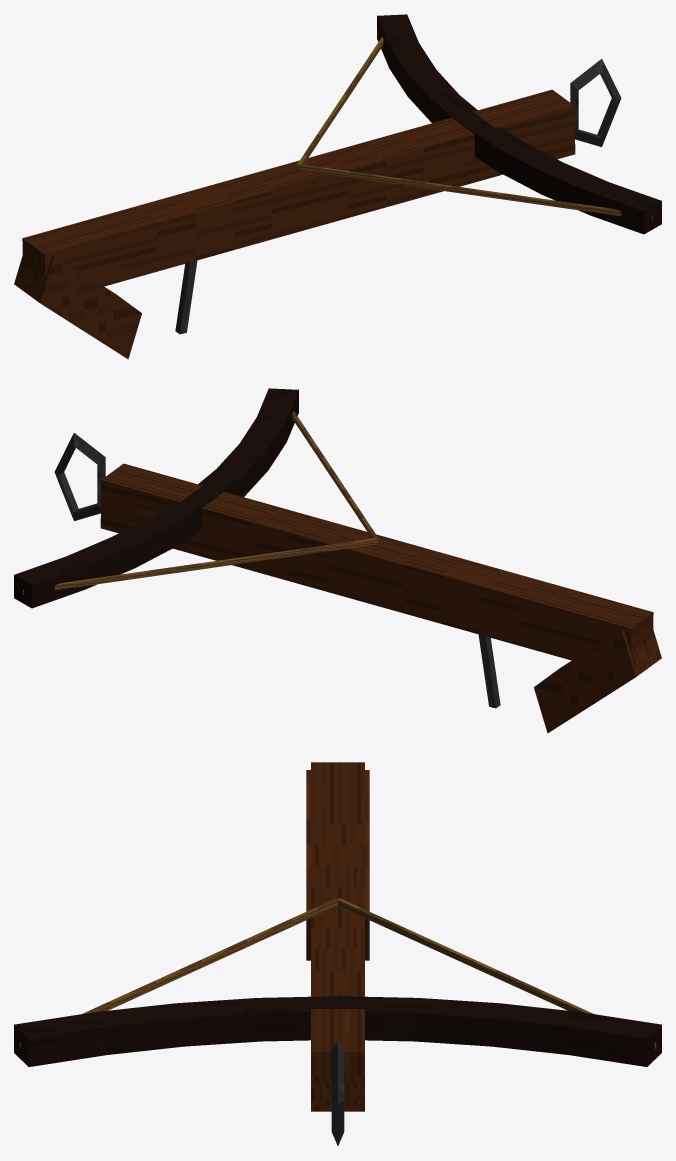
File: ballesta.glb
3 views of the same model, one above another, from view 1: azimuth 30°, elevation 25°; view 2: azimuth 150°, elevation 25°; view 3: azimuth 270°, elevation 25° (orthographic). The views are drawn at different scales.
Parts seen in each view (by area): view 1: cureña, arco, culata, cuerda, estribo, gatillo; view 2: cureña, arco, culata, cuerda, estribo, gatillo; view 3: arco, cureña, cuerda, culata, estribo.
Part boxes in pixels (x1,y1,x2,y2): cureña: [22, 89, 575, 287]; arco: [377, 14, 661, 234]; culata: [14, 256, 141, 359]; cuerda: [297, 37, 652, 220]; estribo: [570, 59, 621, 146]; gatillo: [175, 260, 197, 334]; cureña: [100, 463, 653, 661]; arco: [14, 388, 298, 608]; culata: [534, 630, 661, 733]; cuerda: [23, 411, 378, 594]; estribo: [54, 433, 105, 520]; gatillo: [478, 634, 500, 708]; arco: [14, 996, 661, 1066]; cureña: [311, 762, 364, 1111]; cuerda: [19, 898, 656, 1048]; culata: [306, 770, 369, 960]; estribo: [331, 1039, 344, 1145].
Size of the model in its own units: 0.9 by 0.25 by 0.7.
1 material, 1 textured.
